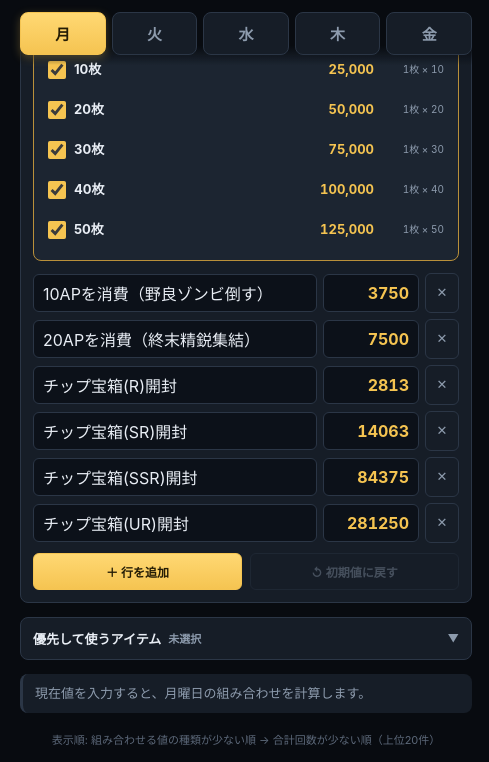
Calc: 獲得値の編集 › 行を削除できる
(page scrolled)
Expected: the field named "チップ宝箱(R)開封の獲得値" is shown, top-left (323, 366), bottom-right (419, 404)
Click the button named "チップ宝箱(R)開封を削除". click: click(442, 385)
box: top-left (425, 365), bottom-right (459, 405)
(page scrolled)
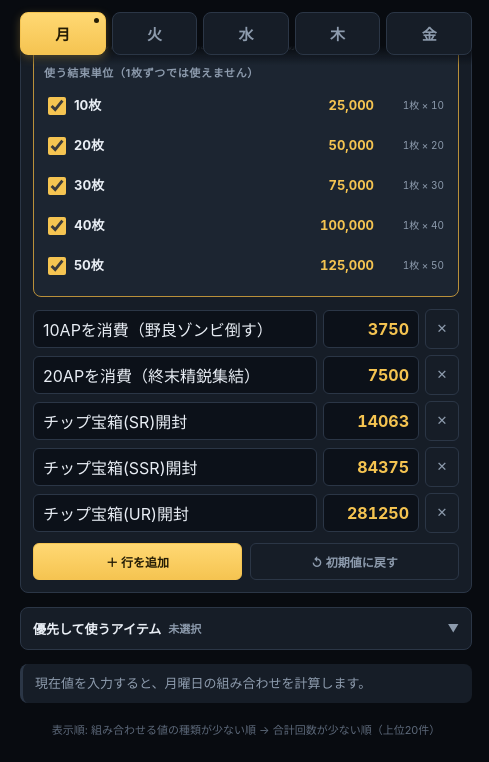
Expected: the field labelled "チップ宝箱(R)開封の獲得値" is gone
